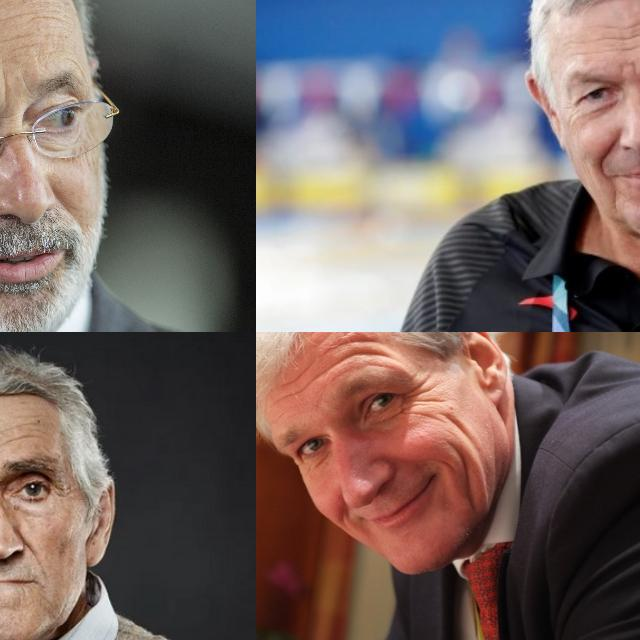chin: (606, 187, 624, 209)
crows_feet: (402, 375, 438, 413), (49, 478, 70, 500), (560, 100, 580, 122)
forehead: (280, 364, 326, 400), (605, 21, 640, 54), (3, 418, 42, 447), (338, 332, 378, 358), (31, 6, 63, 28), (0, 7, 29, 25), (568, 31, 600, 47), (0, 33, 33, 47)
frown_line: (616, 58, 640, 76), (0, 75, 13, 104)
gummy_smile: (593, 142, 619, 172), (22, 534, 38, 558)
masseter: (456, 452, 480, 502), (441, 406, 471, 442)
